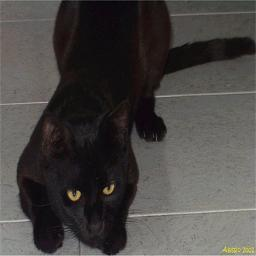catnose: (85, 216, 105, 242)
